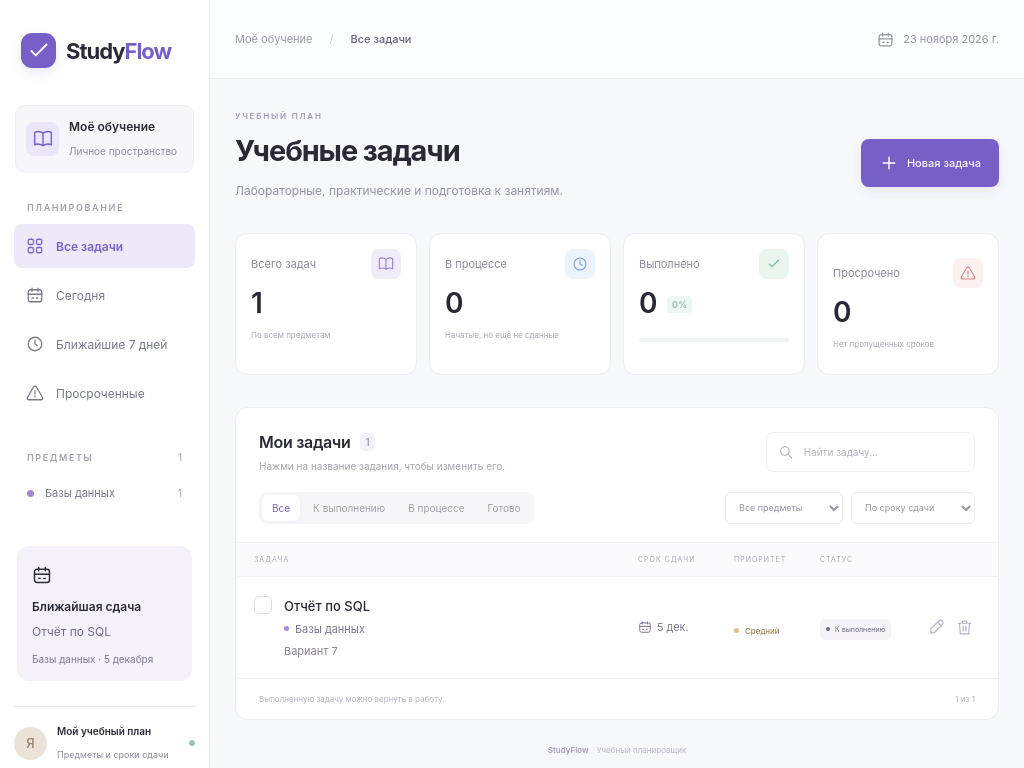
Test case: Работа с заданиями › не отмечает задачу выполненной при ошибке сервера
The image size is (1024, 768).
Expected: the button "Отчёт по SQL" is shown, [284, 595, 370, 617]
Step 1. Click the button named "Отметить выполненной: Отчёт по SQL" → (263, 605), box [254, 596, 272, 614]
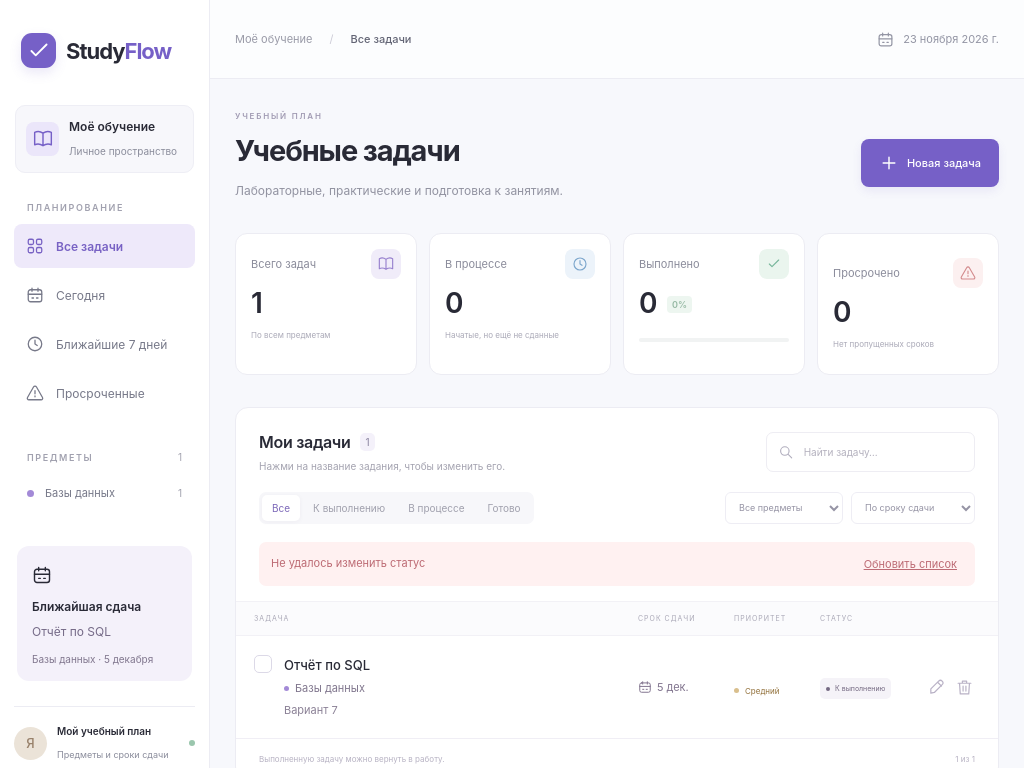
Now the message "Не удалось изменить статус Обновить список" is shown, box [259, 542, 975, 586]
